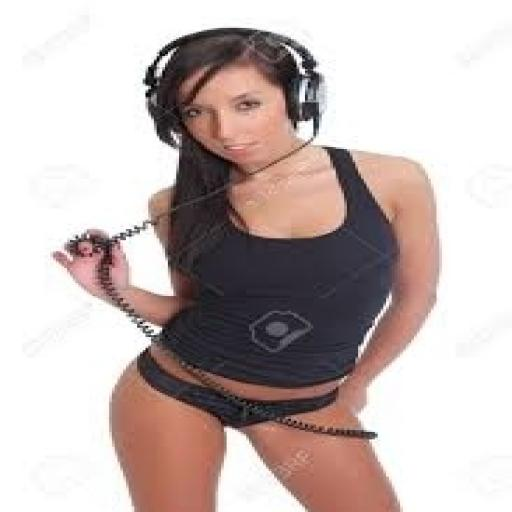listening_to_music: (48, 24, 448, 510)
